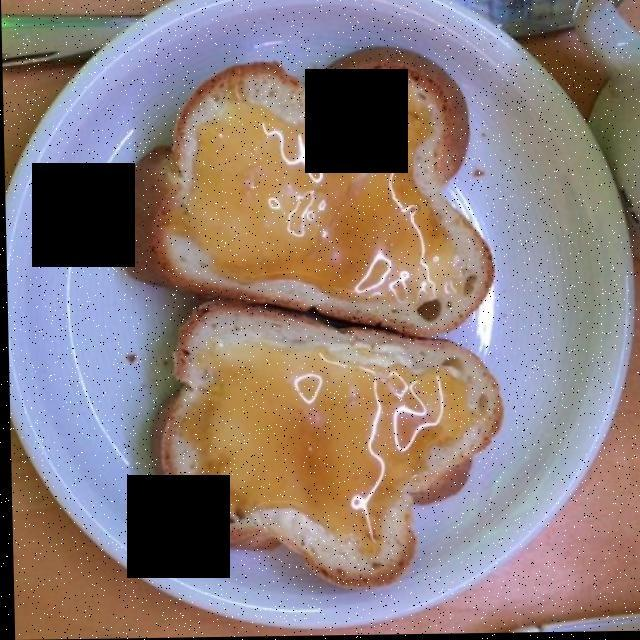bread: (135, 65, 501, 574)
honey: (164, 101, 464, 543)
